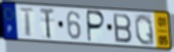6: (65, 10, 83, 41)
B: (112, 12, 133, 44)
P: (87, 9, 107, 44)
Q: (133, 13, 156, 47)
T: (18, 6, 36, 38), (39, 7, 56, 40)
